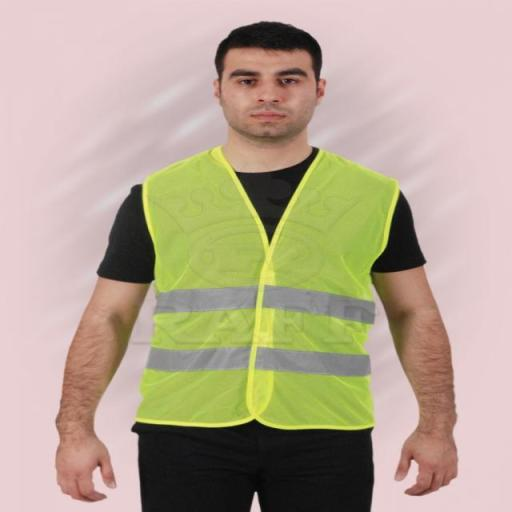vest: (125, 148, 404, 433)
